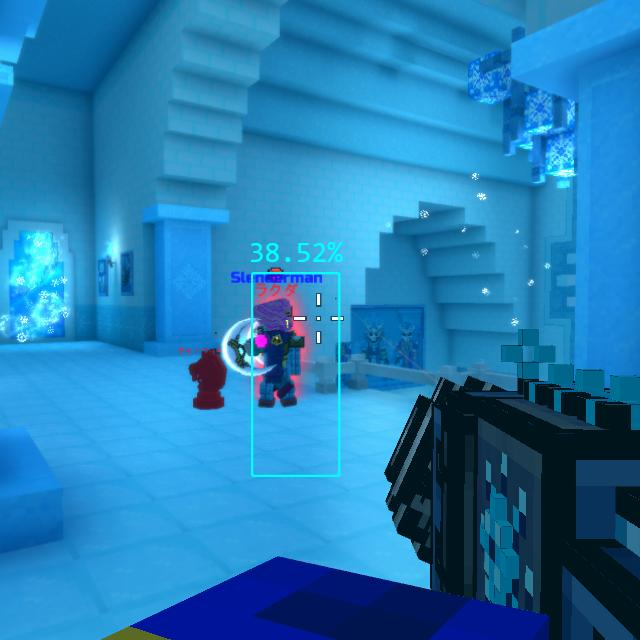Enemy: (244, 297, 305, 408)
